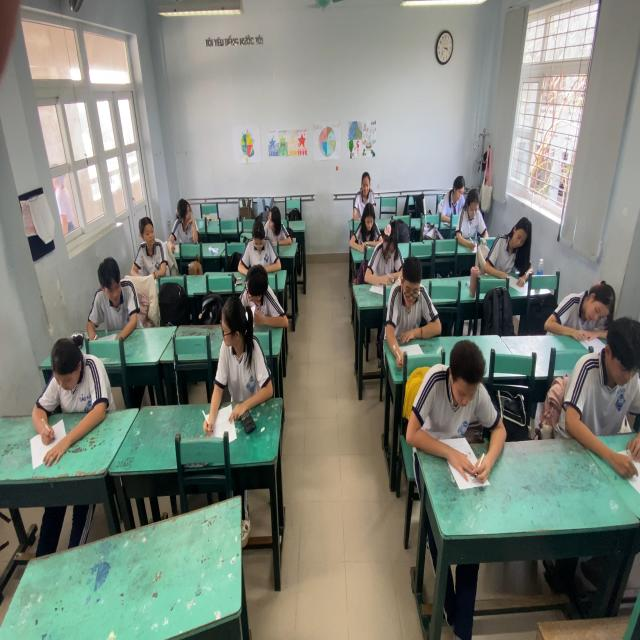cheating: (207, 296, 274, 407), (241, 259, 288, 327), (260, 199, 296, 251), (170, 186, 200, 245)
not_cheating: (404, 338, 502, 458), (578, 320, 640, 444), (37, 338, 107, 434), (388, 258, 443, 341), (547, 275, 622, 334), (88, 259, 140, 341), (127, 217, 171, 286), (484, 217, 535, 276), (346, 192, 385, 258), (239, 213, 280, 272), (370, 218, 407, 282), (439, 168, 473, 220), (457, 193, 486, 237), (348, 165, 376, 206)
